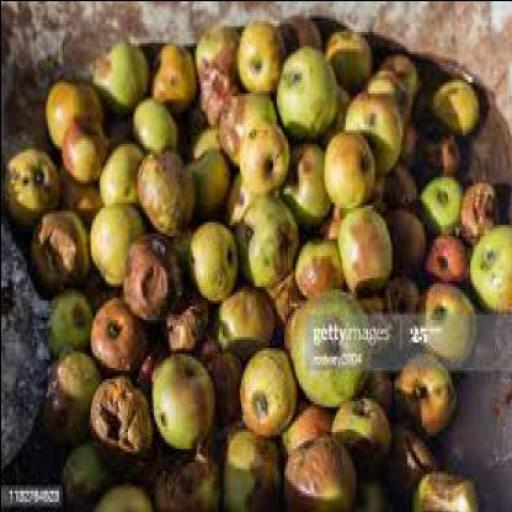biodegradable: (286, 285, 365, 405), (88, 372, 152, 476), (409, 280, 473, 372), (149, 350, 210, 446), (272, 39, 334, 132), (220, 414, 278, 510), (281, 430, 350, 510), (232, 194, 296, 280), (234, 345, 295, 433), (121, 230, 183, 316), (41, 347, 97, 439), (173, 215, 234, 299), (391, 352, 455, 432), (276, 137, 330, 230), (28, 204, 86, 288), (134, 148, 190, 234), (335, 199, 387, 291), (87, 294, 148, 372), (341, 87, 399, 168), (214, 80, 272, 160), (149, 442, 218, 509), (328, 394, 387, 470), (88, 33, 146, 110), (210, 282, 270, 352), (41, 76, 101, 146), (88, 204, 142, 280), (1, 145, 54, 222), (195, 331, 241, 419), (322, 126, 372, 204), (466, 219, 510, 307), (57, 434, 110, 504), (380, 420, 430, 492), (236, 118, 287, 188), (232, 20, 282, 86), (94, 134, 142, 202), (186, 146, 231, 212), (278, 397, 328, 456), (128, 92, 176, 152), (380, 204, 422, 271), (362, 347, 404, 414), (42, 292, 90, 350), (58, 115, 101, 179), (292, 235, 341, 291), (408, 467, 473, 509), (147, 39, 191, 101), (423, 76, 474, 128), (195, 56, 235, 122), (413, 174, 458, 232), (324, 26, 369, 84), (456, 177, 495, 243), (260, 263, 302, 324), (162, 285, 205, 344), (56, 160, 99, 218), (410, 123, 458, 174), (363, 64, 406, 118), (416, 236, 466, 282), (86, 475, 150, 510), (193, 20, 235, 72), (380, 48, 415, 96), (350, 470, 390, 510), (275, 11, 317, 48), (382, 160, 414, 208), (382, 274, 417, 316), (178, 120, 218, 152), (314, 201, 340, 238), (356, 285, 384, 319), (397, 115, 412, 157), (373, 170, 385, 205)
